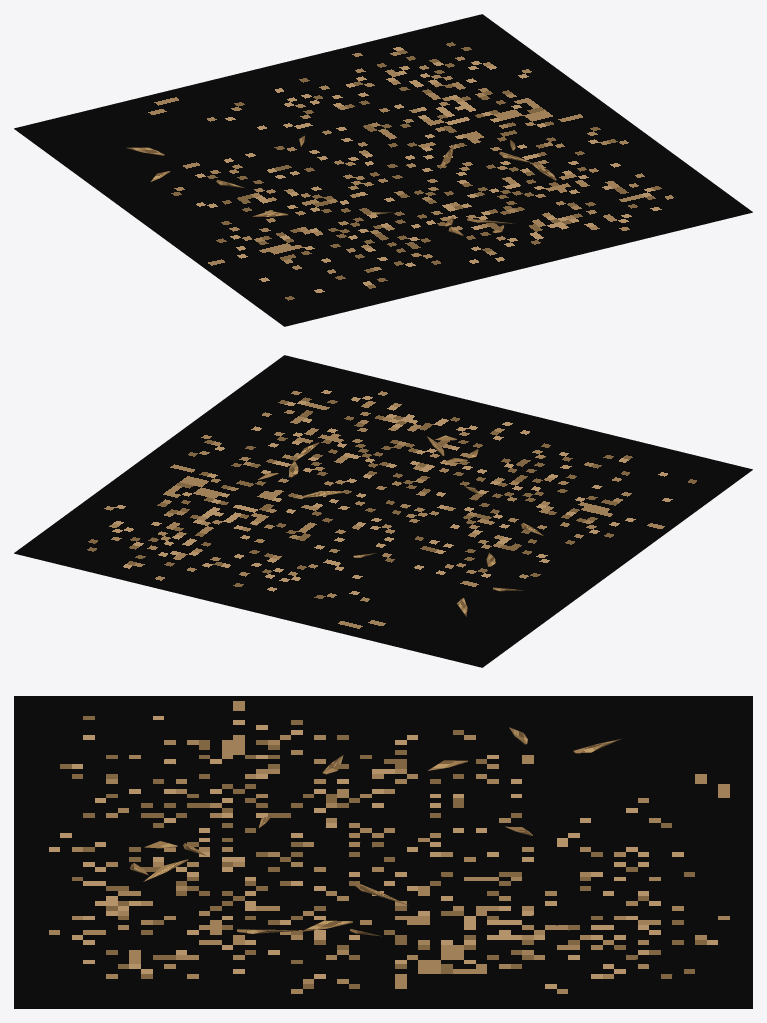
File: fd_splinters.glb
3 views of the same model, one above another, from view 1: azimuth 30°, elevation 25°; view 2: azimuth 150°, elevation 25°; view 3: azimuth 270°, elevation 25° (orthographic). The views are drawn at different scales.
Parts seen in each view (by area): view 1: block_sawdust; view 2: block_sawdust; view 3: block_sawdust.
Boxes of the visible parts, bbox=[...] form: block_sawdust: bbox=[14, 14, 752, 326]; block_sawdust: bbox=[14, 355, 752, 667]; block_sawdust: bbox=[14, 696, 752, 1008].
Bounding box in the file's own units: 1 × 0.008 × 1.
2 materials, 2 textured.
